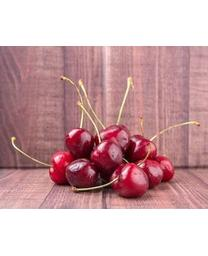cherry: (110, 162, 149, 199), (65, 158, 98, 194), (65, 128, 98, 164), (91, 139, 123, 173), (47, 150, 74, 183), (99, 124, 132, 150), (136, 159, 164, 188), (124, 135, 149, 161)
